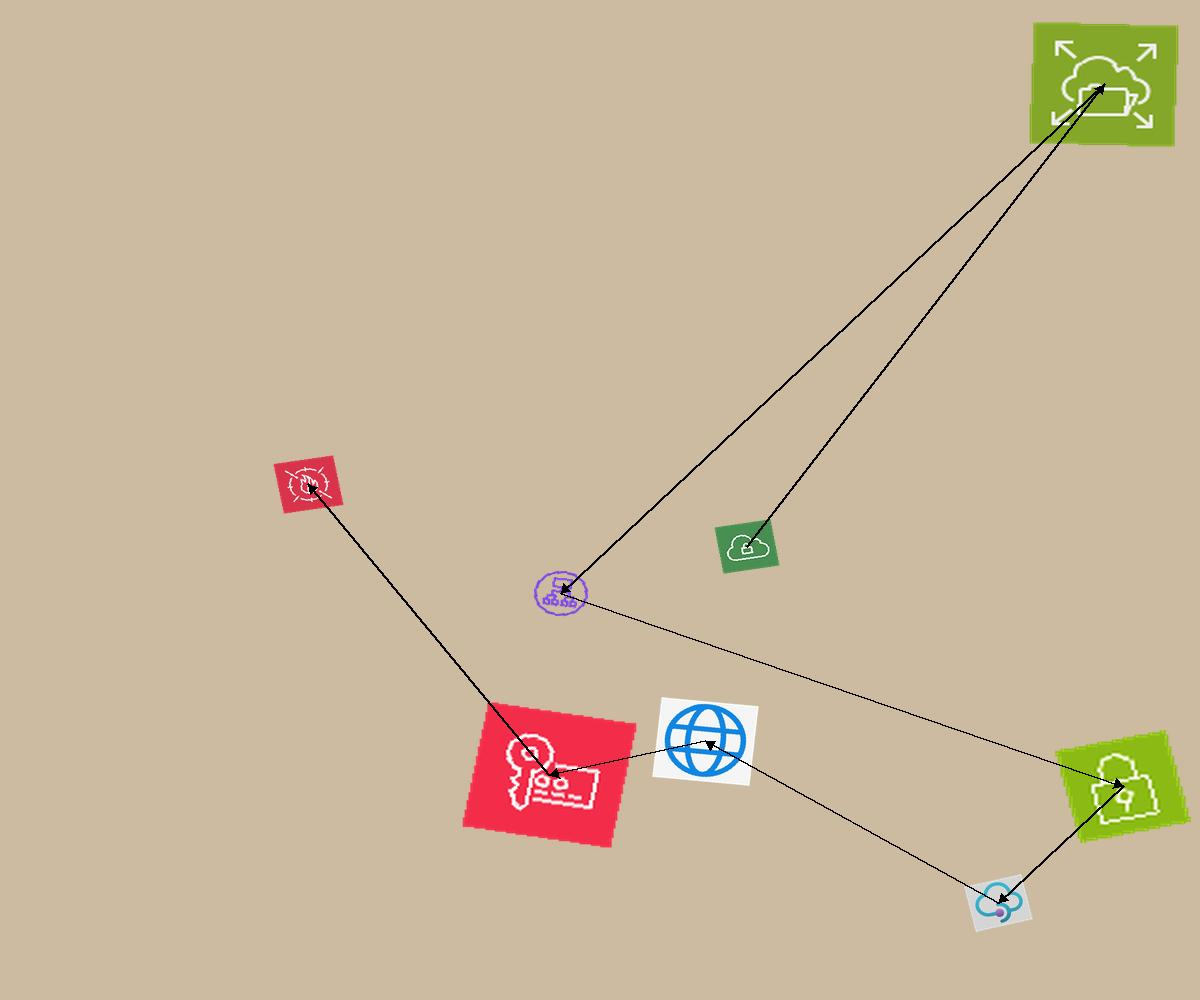AWS-EFS: (1028, 21, 1180, 148)
AWS-Key-Management-Service: (461, 701, 638, 849)
AWS-Private_vpc: (714, 519, 780, 574)
AWS-Public-subnet: (1055, 730, 1191, 843)
AWS-Res_Elastic-Load-Balancing_Application-Load-Balancer: (528, 566, 594, 621)
AWS-WAF: (273, 455, 344, 514)
Azure_api_gateway: (964, 874, 1033, 932)
Azure_http: (652, 697, 759, 786)
